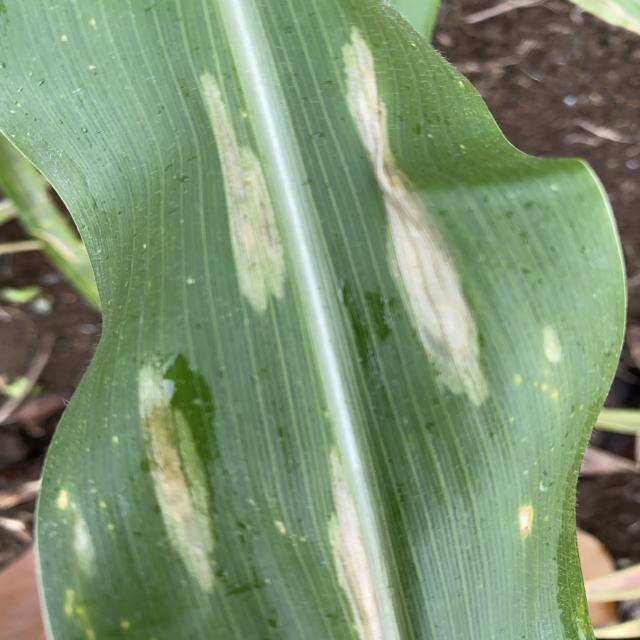Corn_Leaf_Blight: (29, 0, 626, 640)
